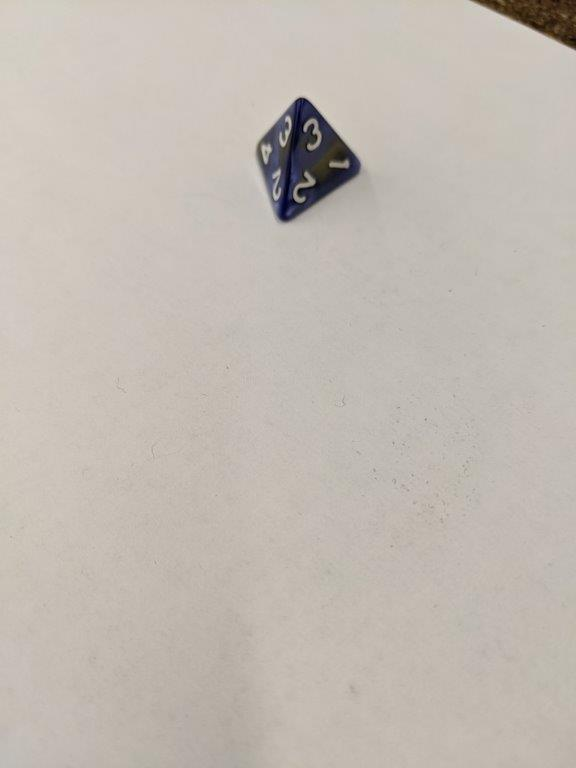d4-3: (251, 96, 363, 225)
